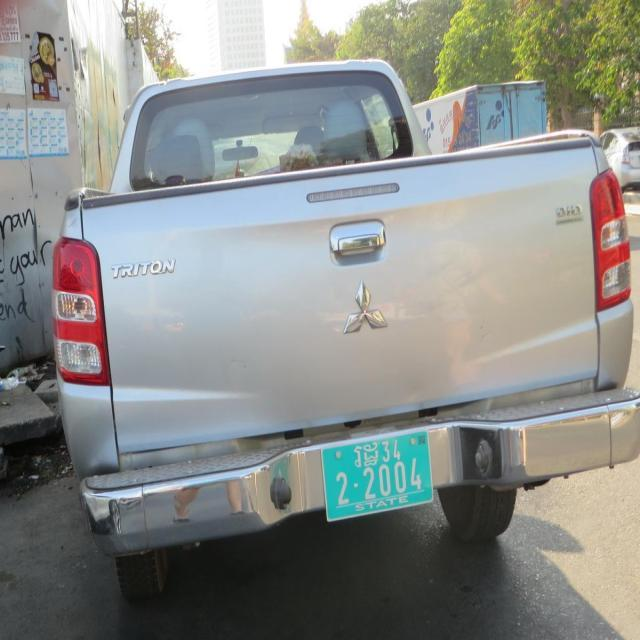State: (353, 442, 380, 468)
